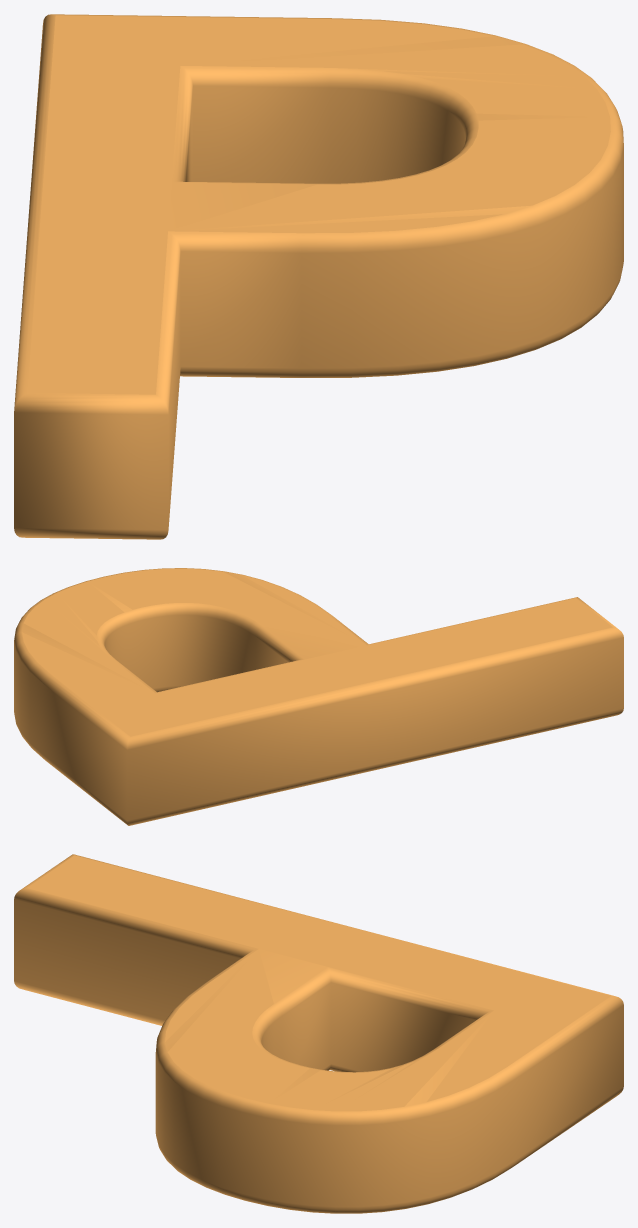
Rendered from ToyObject_219.fbx.
3 renders of one model, top to bottom at view 1: azimuth 30°, elevation 25°; view 2: azimuth 150°, elevation 25°; view 3: azimuth 270°, elevation 25°, orthographic. The views are drawn at different scales.
Parts seen in each view (by area): view 1: Object.089; view 2: Object.089; view 3: Object.089.
Boxes of the visible parts, x1=… form: Object.089: x1=14, y1=14, x2=623, y2=539; Object.089: x1=14, y1=568, x2=623, y2=825; Object.089: x1=14, y1=854, x2=623, y2=1213.
Bounding box in the file's own units: 0.197 × 0.0353 × 0.1915.
